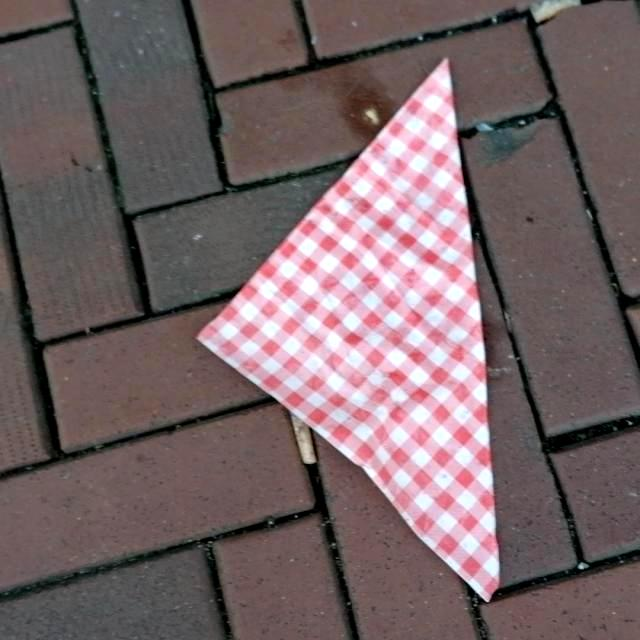Paper: (188, 48, 504, 606)
